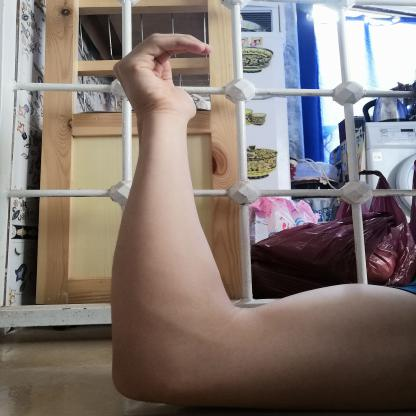HAA: (100, 23, 233, 129)
